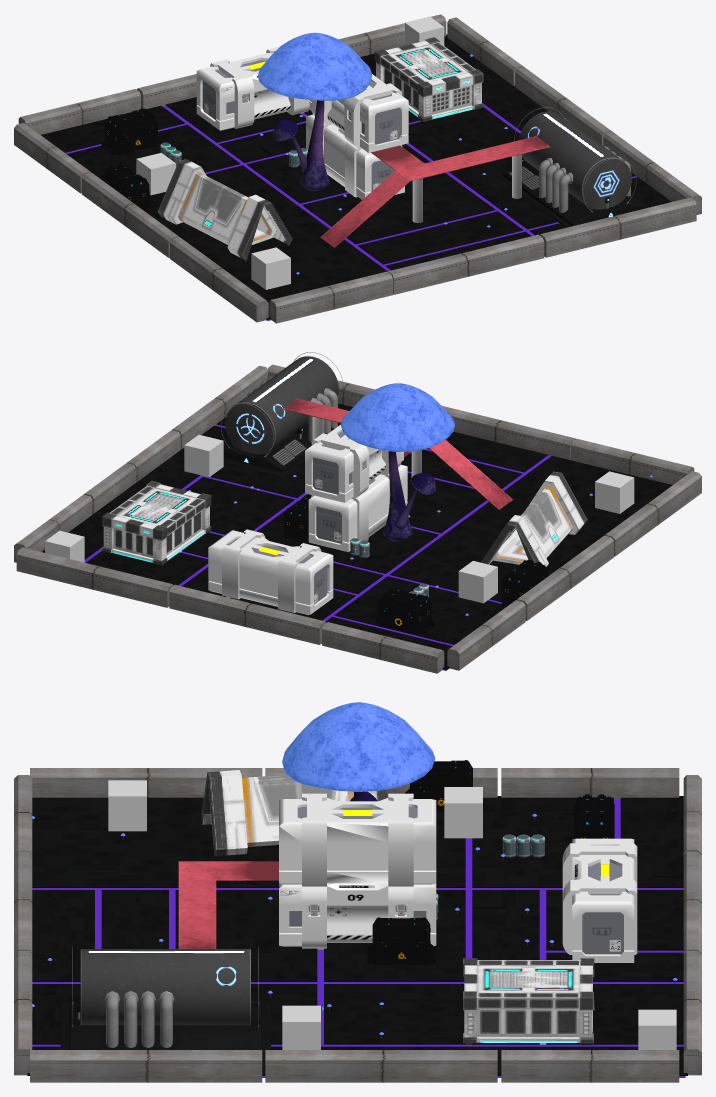
The model's file is map3.glb.
3 views of the same model, one above another, from view 1: azimuth 30°, elevation 25°; view 2: azimuth 150°, elevation 25°; view 3: azimuth 270°, elevation 25° (orthographic). The views are drawn at different scales.
Parts seen in each view (by area): view 1: map_Floor, map_wall, map_container, map_tank, map_mush, map_path.001, map_boxes, map_ground.001, spawnpoint3, spawnpoint4, map_pillars.001, spawnpoint2 (+1 smaller); view 2: map_Floor, map_wall, map_container, map_tank, map_mush, map_boxes, map_ground.001, map_path.001, spawnpoint1, spawnpoint4, spawnpoint3, spawnpoint2 (+1 smaller); view 3: map_Floor, map_container, map_wall, map_tank, map_mush, map_boxes, map_ground.001, map_path.001, spawnpoint3, spawnpoint4, spawnpoint1, spawnpoint2 (+1 smaller).
Boxes of the visible parts, box(x1,y1,x2,y2) form: map_Floor: box(41, 34, 671, 319); map_wall: box(14, 14, 701, 323); map_container: box(157, 37, 483, 260); map_tank: box(495, 107, 648, 227); map_mush: box(257, 32, 371, 190); map_path.001: box(320, 136, 550, 247); map_boxes: box(101, 108, 160, 211); map_ground.001: box(65, 103, 635, 320); spawnpoint3: box(251, 247, 290, 289); spawnpoint4: box(136, 152, 175, 195); map_pillars.001: box(412, 153, 523, 222); spawnpoint2: box(405, 16, 444, 45); map_Floor: box(42, 403, 672, 669); map_wall: box(14, 364, 701, 673); map_container: box(102, 424, 587, 614); map_tank: box(220, 352, 343, 476); map_mush: box(340, 383, 454, 541); map_boxes: box(283, 495, 548, 635); map_ground.001: box(84, 424, 550, 670); map_path.001: box(283, 398, 512, 509); spawnpoint1: box(184, 434, 223, 477); spawnpoint4: box(458, 561, 497, 603); spawnpoint3: box(595, 471, 634, 513); spawnpoint2: box(45, 530, 84, 562); map_Floor: box(27, 796, 687, 1075); map_container: box(201, 770, 637, 1045); map_wall: box(14, 768, 701, 1082); map_tank: box(60, 947, 270, 1057); map_mush: box(282, 702, 435, 801); map_boxes: box(367, 760, 614, 965); map_ground.001: box(32, 799, 685, 1077); map_path.001: box(178, 861, 278, 948); spawnpoint3: box(108, 780, 146, 831); spawnpoint4: box(444, 787, 482, 838); spawnpoint1: box(282, 1005, 320, 1049); spawnpoint2: box(638, 1009, 676, 1049).
Size of what is drawn, in the model's own units: 6.54 by 2.2 by 6.54.
Materials: 13 (12 with a texture image).
